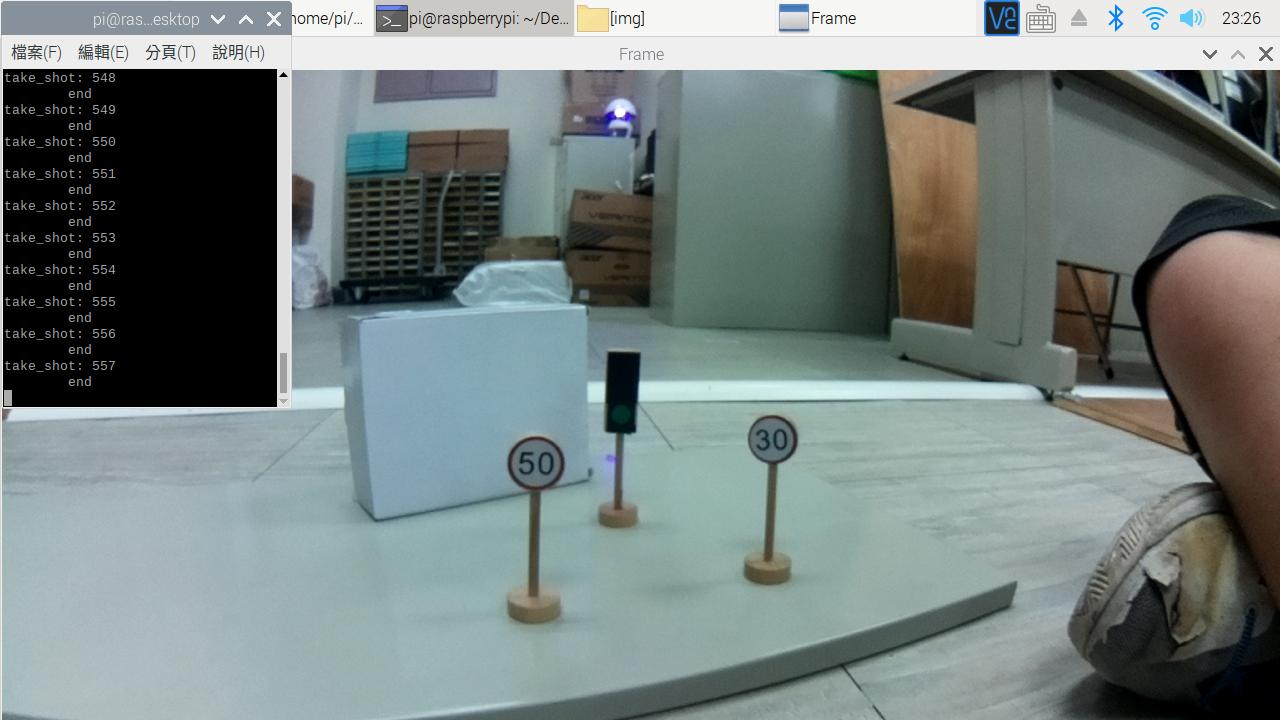Green: (590, 338, 652, 447)
Speed30: (731, 409, 807, 470)
Speed50: (498, 429, 569, 498)
